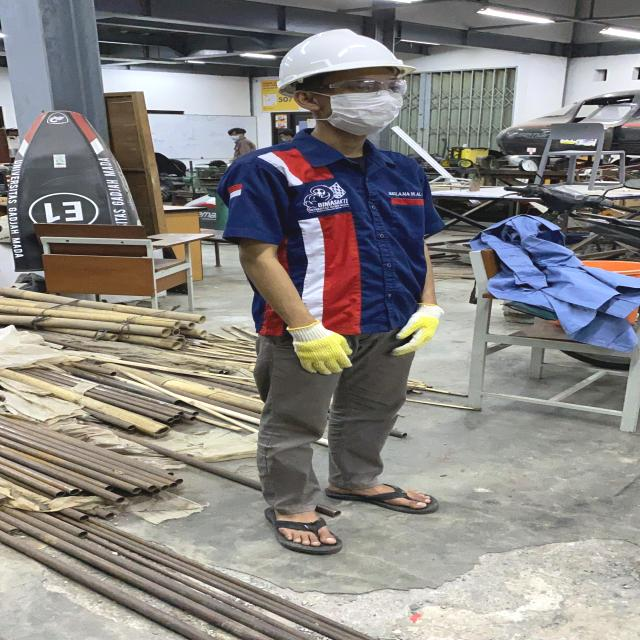face_mask: (315, 72, 414, 134)
glasses: (312, 76, 413, 99)
hand_glove: (283, 323, 362, 376), (384, 302, 444, 356)
head_helmet: (268, 26, 412, 86)
person: (202, 27, 485, 560)
